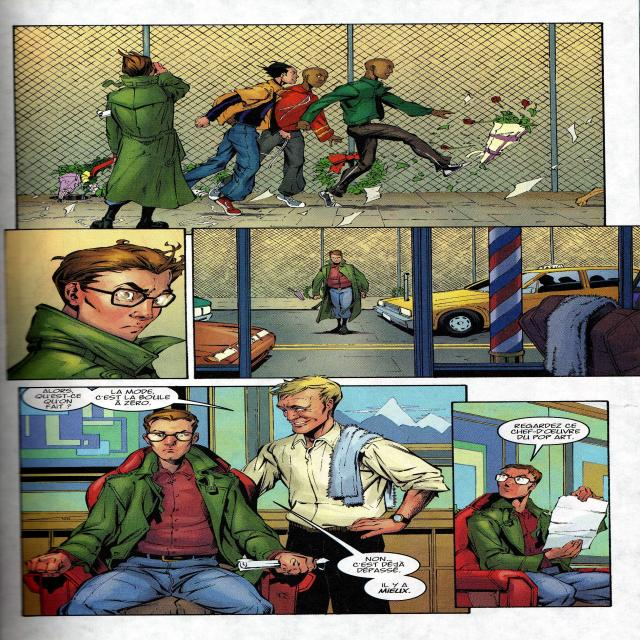comic_panel: (12, 22, 608, 231), (21, 374, 470, 617), (191, 224, 640, 380), (452, 401, 612, 609), (5, 228, 189, 381)
